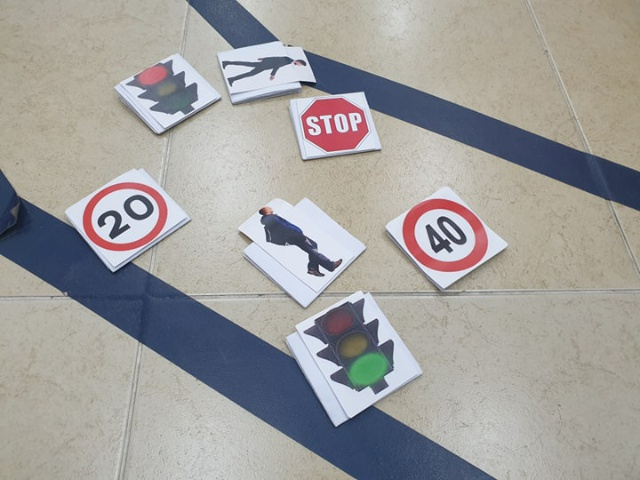Green: (306, 306, 399, 396)
Limit 20: (82, 184, 167, 250)
Limit 40: (401, 199, 489, 277)
Person: (256, 204, 341, 283), (222, 51, 308, 87)
Red: (125, 59, 200, 120)
Stop: (302, 98, 370, 152)
